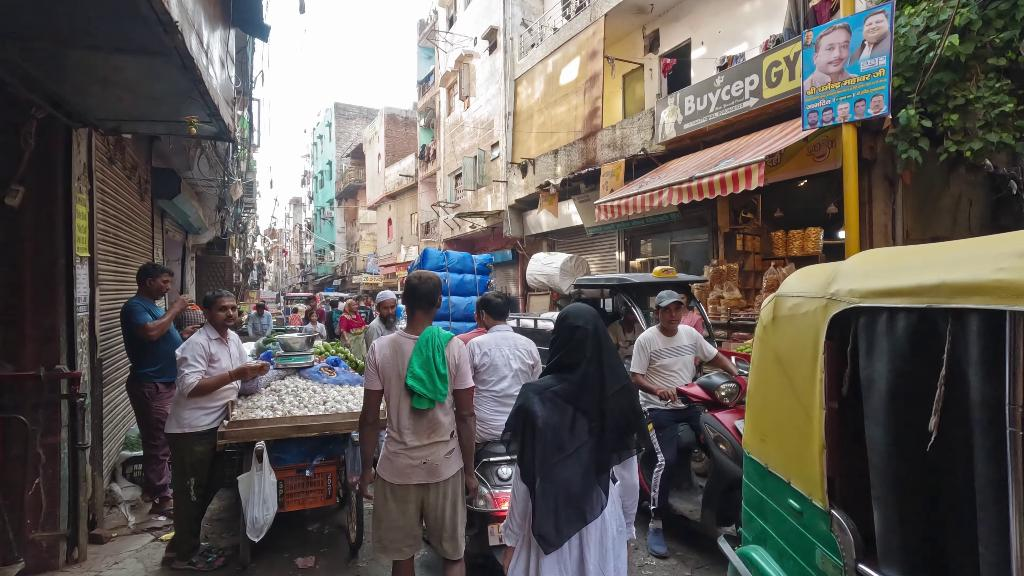garbage: (234, 440, 283, 546), (345, 432, 363, 490), (106, 483, 125, 508), (293, 555, 316, 569)
